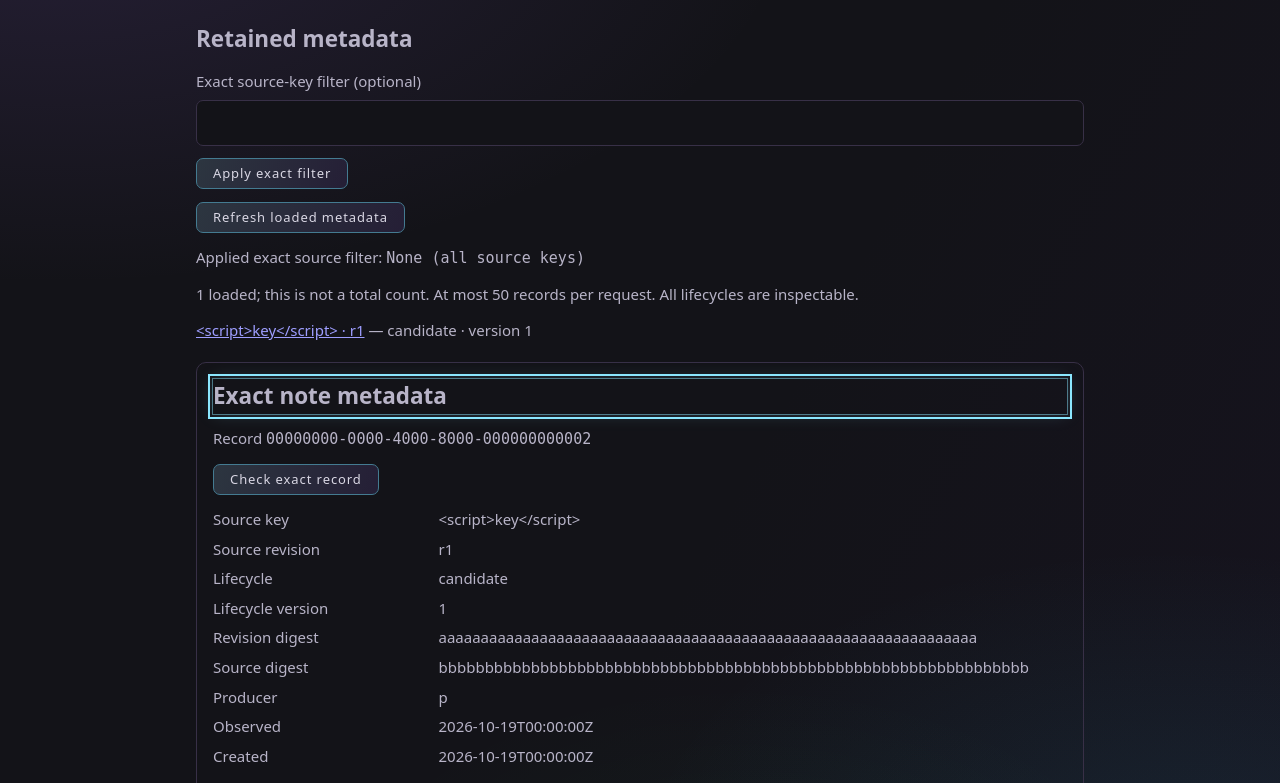
Test: default read failure is distinct and refusal clears protected metadata and controls
(page scrolled)
Click the button "Check exact record" at (296, 480), box [213,464,379,495]
(page scrolled)
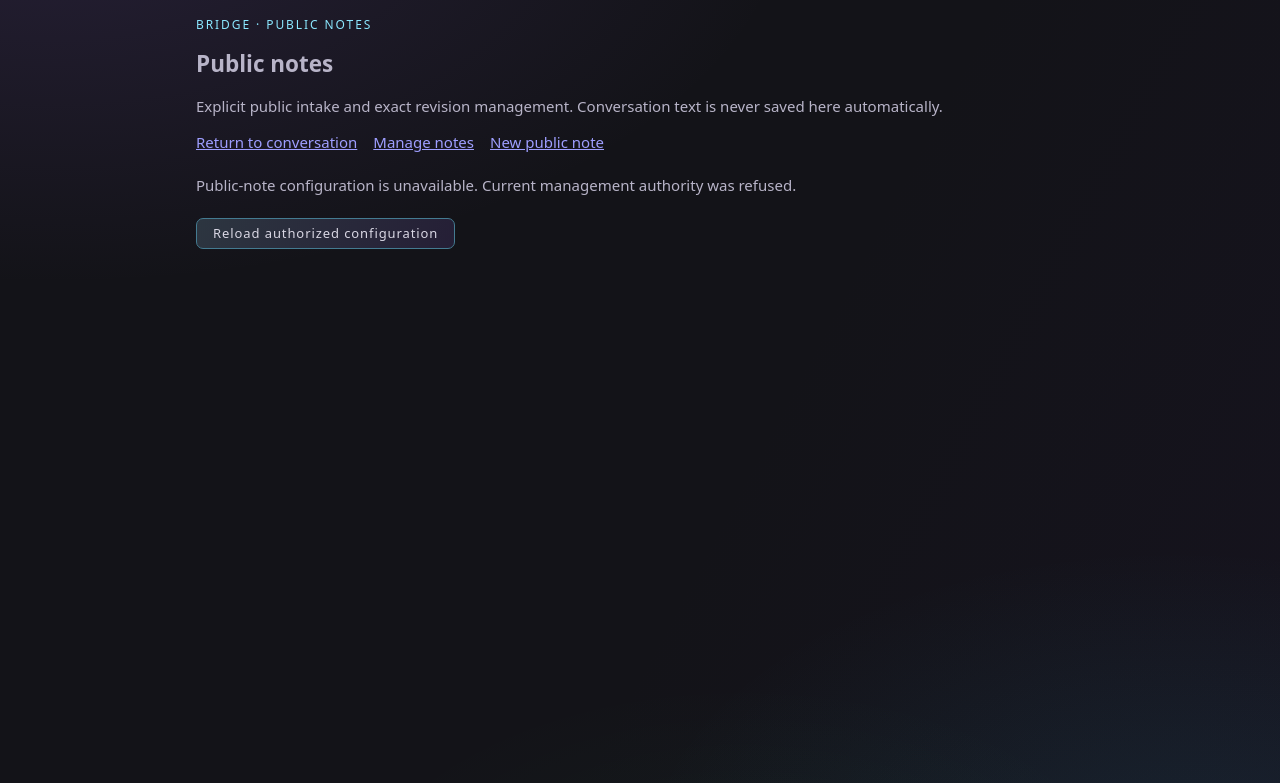
Check: the text "Public-note configuration is unavailable" is shown, box [196,175,796,195]
